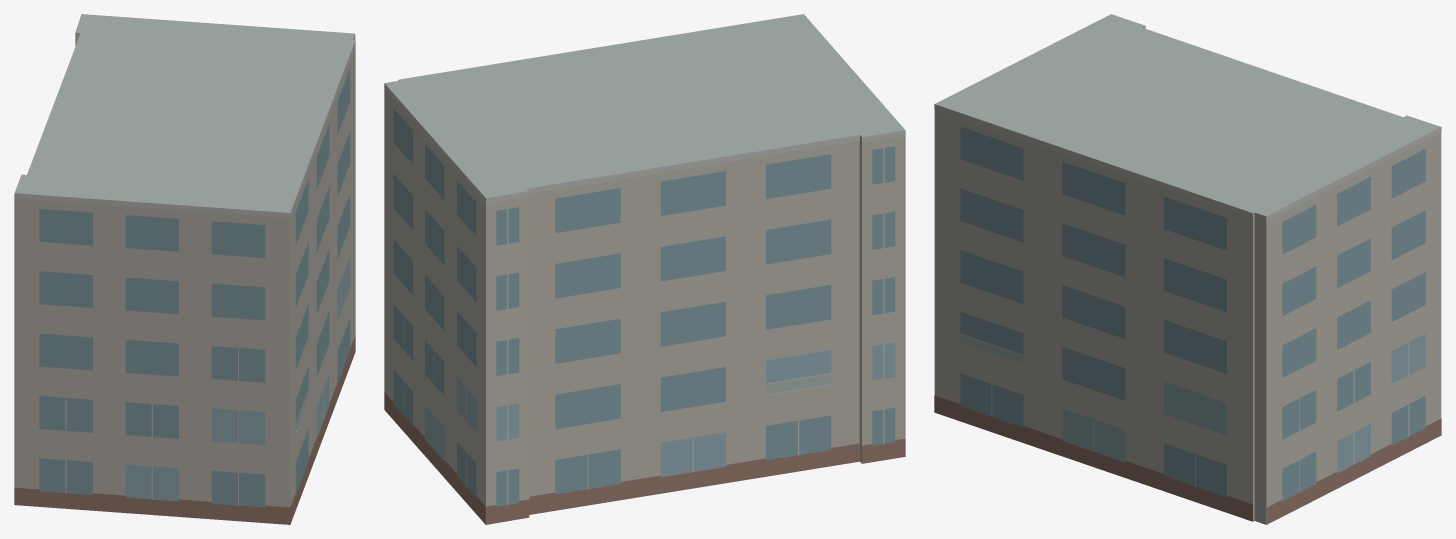
The model's file is survey-upis-32655747.glb.
3 renders of one model, left to right at view 1: azimuth 30°, elevation 25°; view 2: azimuth 150°, elevation 25°; view 3: azimuth 270°, elevation 25°, orthographic. The views are drawn at different scales.
Visible parts, largest first — view 1: survey-upis-32655747.tmp; view 2: survey-upis-32655747.tmp; view 3: survey-upis-32655747.tmp.
Part boxes in pixels (box(x1,y1,x2,y2)): survey-upis-32655747.tmp: box(14, 14, 355, 524); survey-upis-32655747.tmp: box(384, 14, 905, 524); survey-upis-32655747.tmp: box(934, 14, 1441, 524).
Size of the model in its own units: 19.54 by 13.88 by 20.68.
